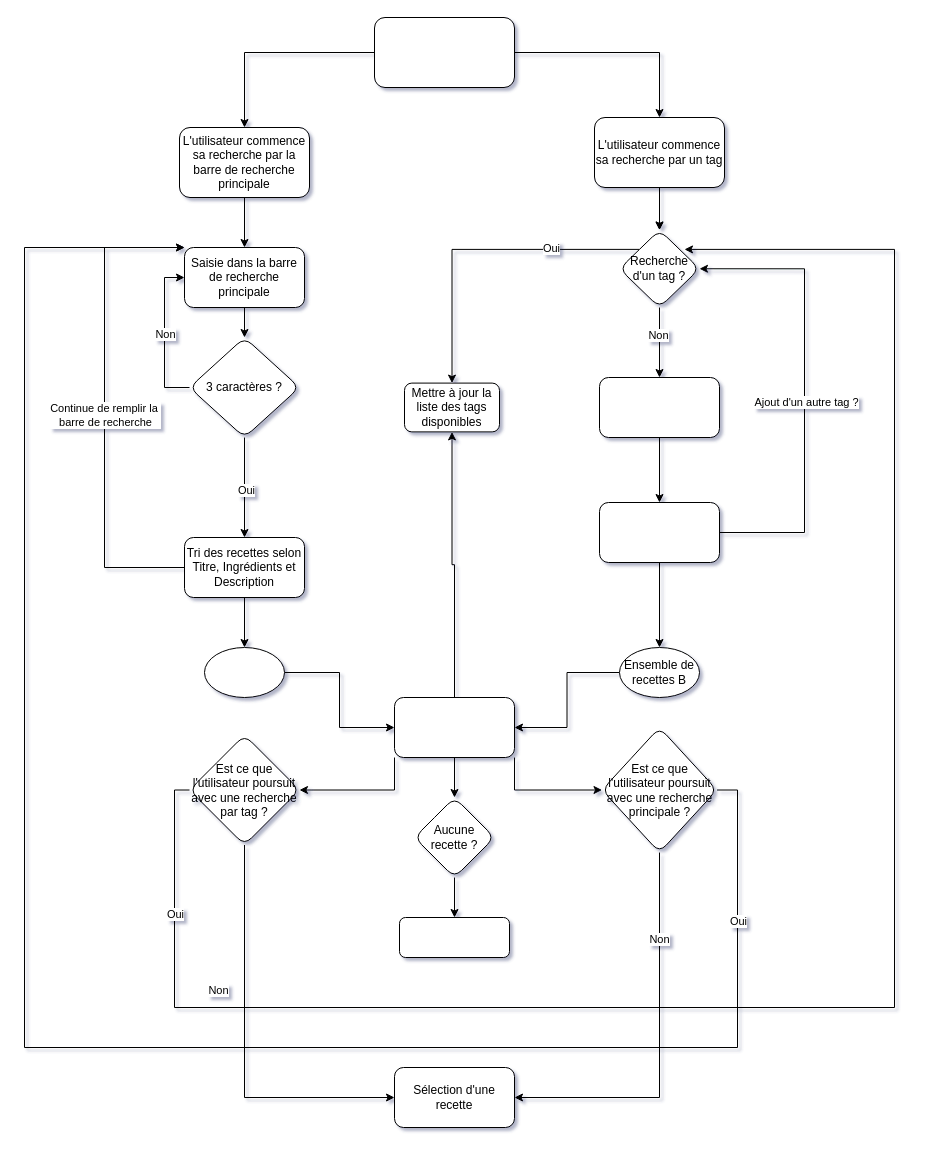
Image size: 926x1151. Some labels were removed from this diagram. Here are the shapes that lost their labels. From the top down, the centre of each, then its label:
the point at 444,52: L'utilisateur se trouve sur la page des recettes
the point at 659,407: Ajout d'un tag
the point at 659,532: Tri des recettes selon Ingrédients, Ustensiles ou Appareil
the point at 244,672: Ensemble de recettes A
the point at 454,727: Mise à jour de la liste des recettes ( Intersection entre A et B )
the point at 454,937: Afficher message d'erreur
